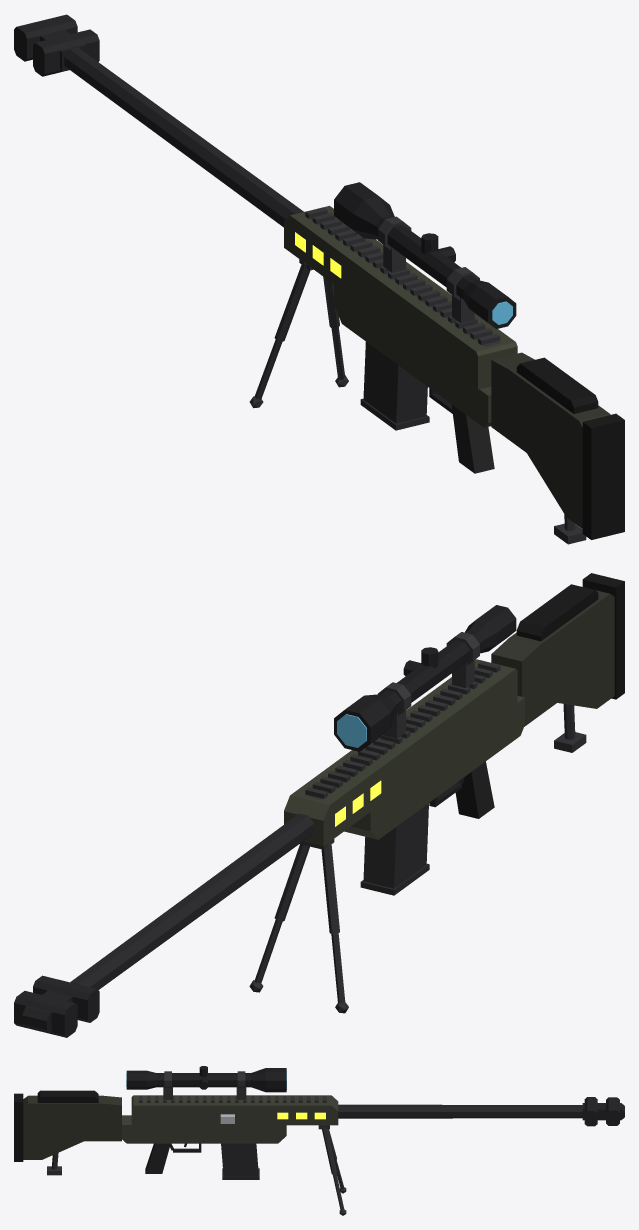
The model's file is Goliath.glb.
3 views of the same model, one above another, from view 1: azimuth 30°, elevation 25°; view 2: azimuth 150°, elevation 25°; view 3: azimuth 270°, elevation 25° (orthographic). The views are drawn at different scales.
Parts seen in each view (by area): view 1: Body, Stock, Pad, Barrel, Scope, Mount, Magazine, Muzzle, Bipod, Grip; view 2: Body, Stock, Barrel, Scope, Mount, Bipod, Magazine, Pad, Muzzle, Grip, Lens; view 3: Body, Stock, Barrel, Scope, Pad, Magazine, Mount, Muzzle, Bipod, Grip, Accent.
Boxes of the visible parts, <box> form: Body: <box>284,205,517,427</box>; Stock: <box>491,352,610,528</box>; Pad: <box>516,357,624,539</box>; Barrel: <box>64,47,303,227</box>; Scope: <box>334,182,516,328</box>; Mount: <box>304,207,501,346</box>; Magazine: <box>360,342,429,430</box>; Muzzle: <box>14,14,99,76</box>; Bipod: <box>249,259,586,544</box>; Grip: <box>451,404,494,473</box>; Body: <box>284,659,524,846</box>; Stock: <box>491,590,614,726</box>; Barrel: <box>70,813,314,989</box>; Scope: <box>334,605,516,751</box>; Mount: <box>305,632,500,799</box>; Bipod: <box>249,704,586,1013</box>; Magazine: <box>360,803,429,895</box>; Pad: <box>516,573,624,699</box>; Muzzle: <box>14,975,99,1037</box>; Grip: <box>455,761,494,818</box>; Lens: <box>337,714,366,747</box>; Body: <box>122,1095,338,1143</box>; Stock: <box>23,1095,121,1159</box>; Barrel: <box>338,1104,582,1118</box>; Scope: <box>126,1066,286,1092</box>; Pad: <box>14,1090,98,1161</box>; Magazine: <box>221,1143,259,1179</box>; Mount: <box>139,1071,326,1102</box>; Muzzle: <box>582,1097,624,1126</box>; Bipod: <box>47,1125,346,1215</box>; Grip: <box>145,1143,170,1173</box>; Accent: <box>277,1112,325,1119</box>.
Size of the model in its own units: 0.6281 by 1.6 by 6.5.
